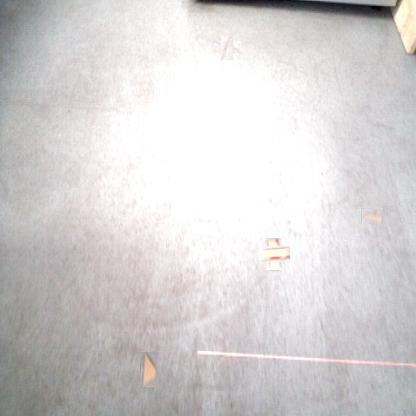dirty: (140, 351, 156, 387), (262, 242, 286, 266), (361, 208, 383, 224)
mark: (217, 38, 237, 56), (68, 106, 72, 114)
